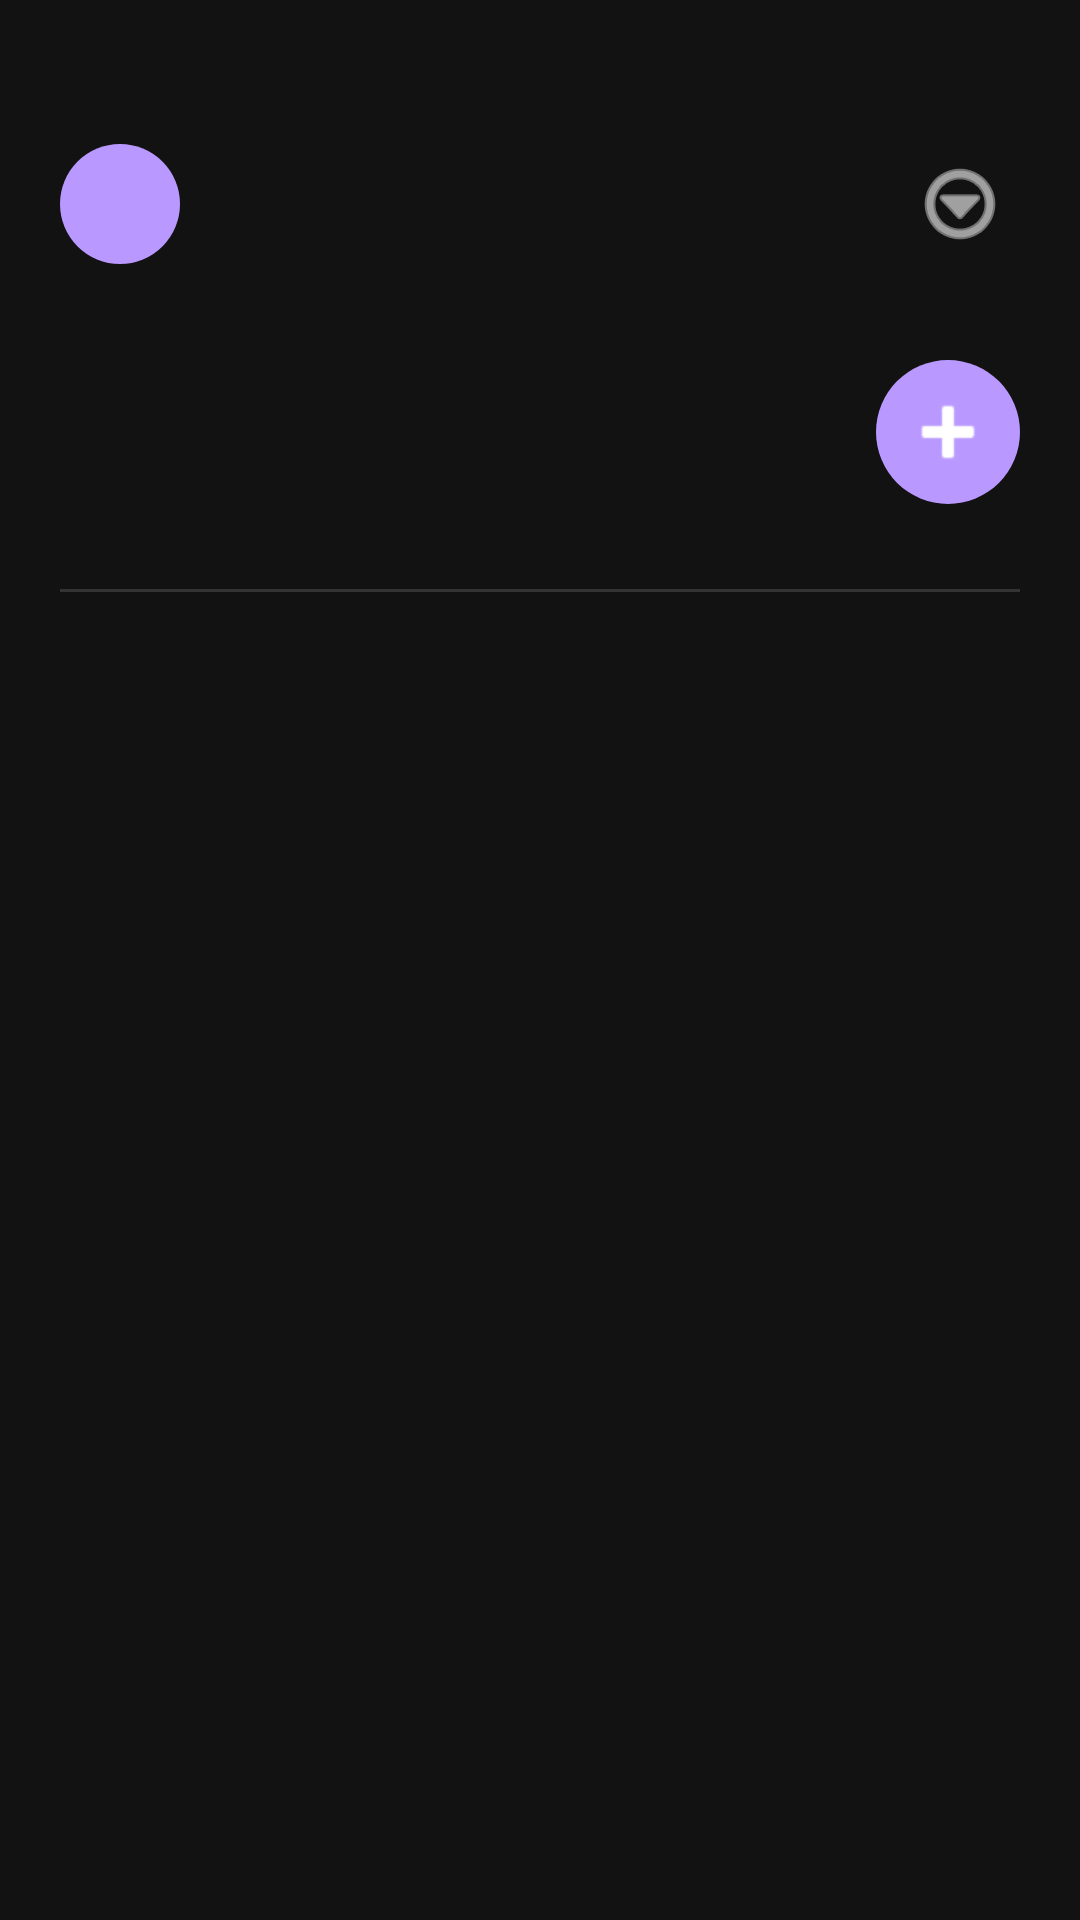

Point at icon controls on the screen. Image size 1080px x 1920px, points as (x,y).
Add movie to folder: (948,432)
more: (960,204)
